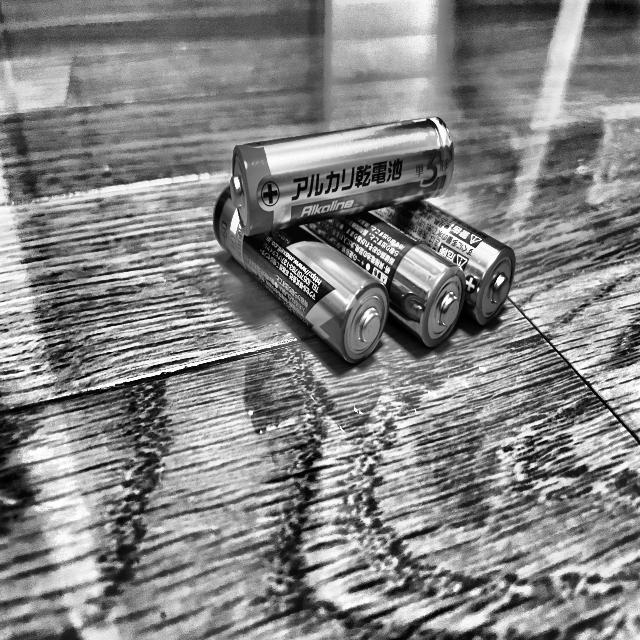drycell: (214, 187, 389, 363), (232, 116, 454, 234), (309, 211, 466, 347), (375, 200, 516, 325)
